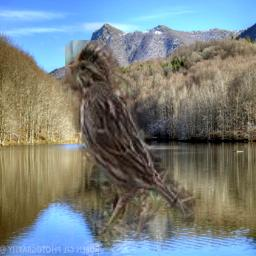Sparrow: (65, 40, 195, 241)
